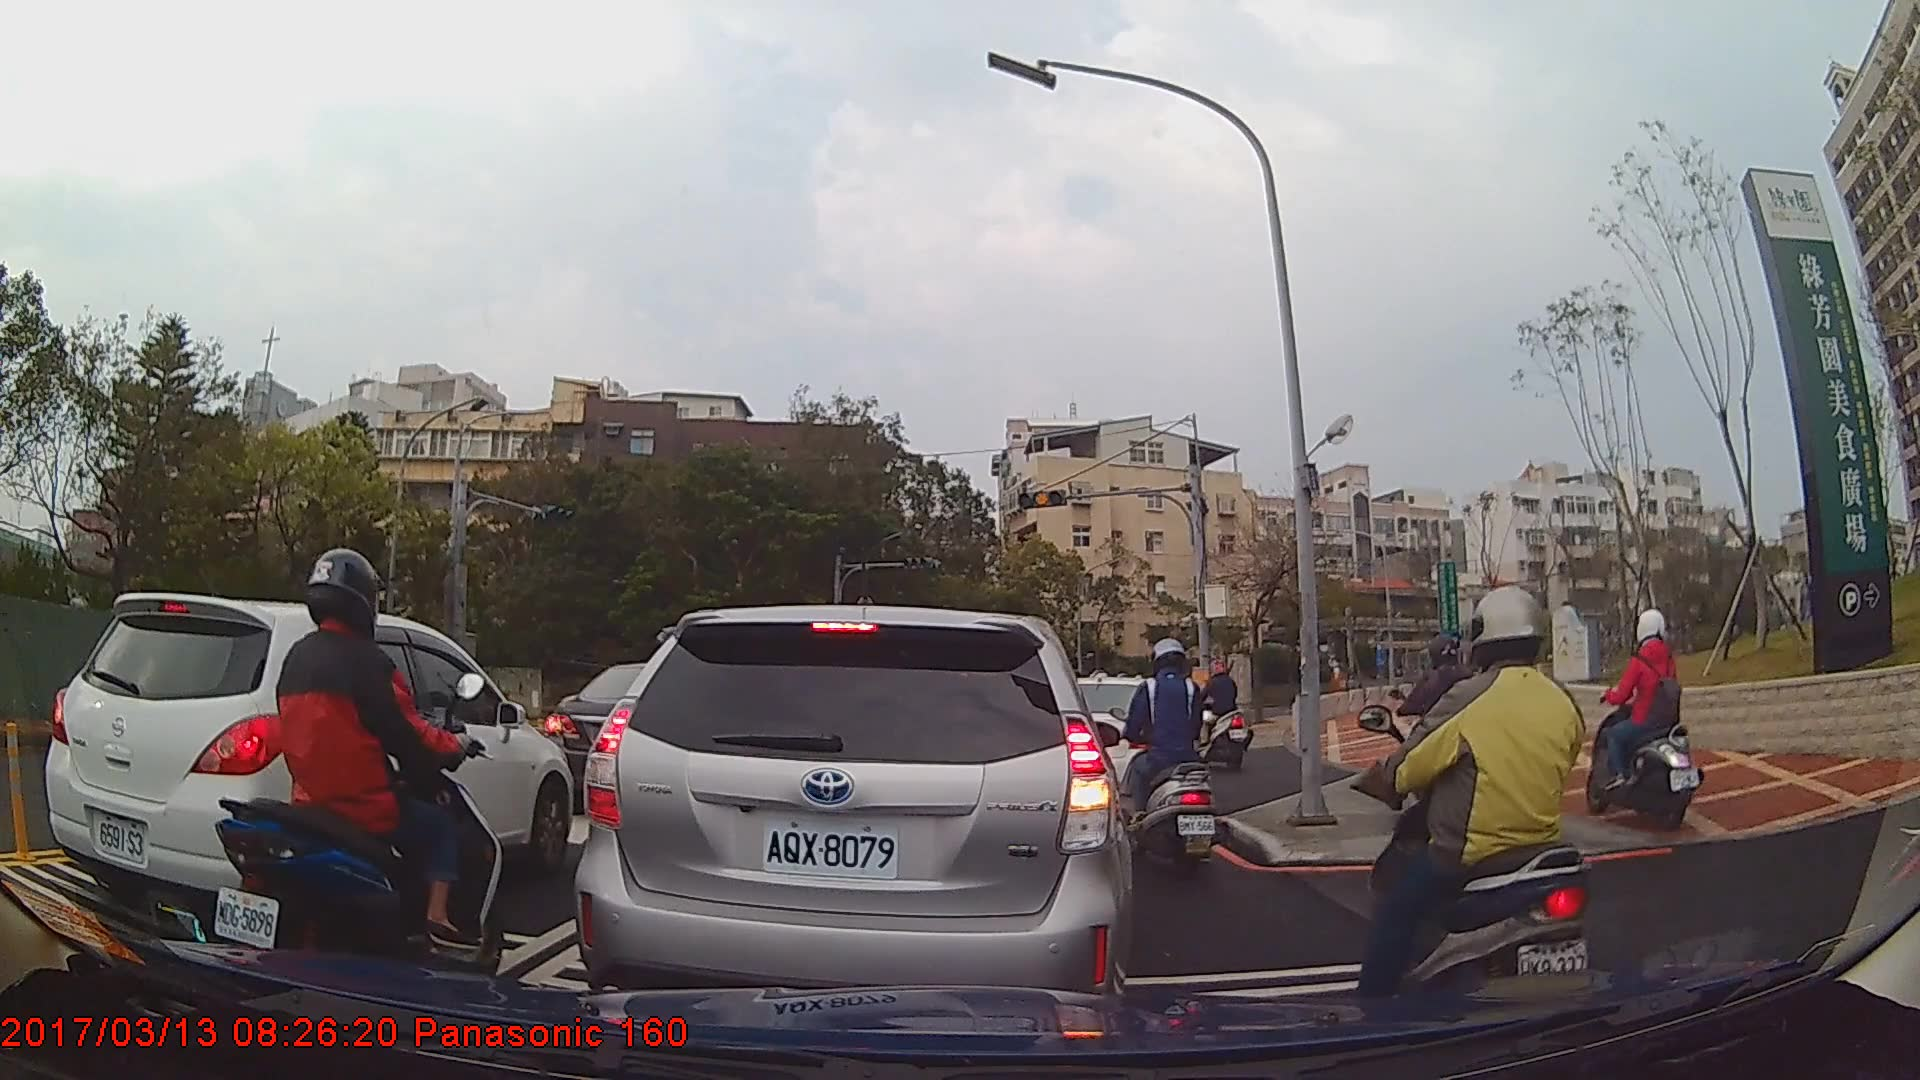rider: (216, 544, 506, 997), (1353, 584, 1604, 1031), (1583, 610, 1701, 829), (1119, 639, 1227, 878), (1186, 660, 1252, 773)
vehicle: (571, 602, 1134, 1033), (46, 591, 572, 934)
